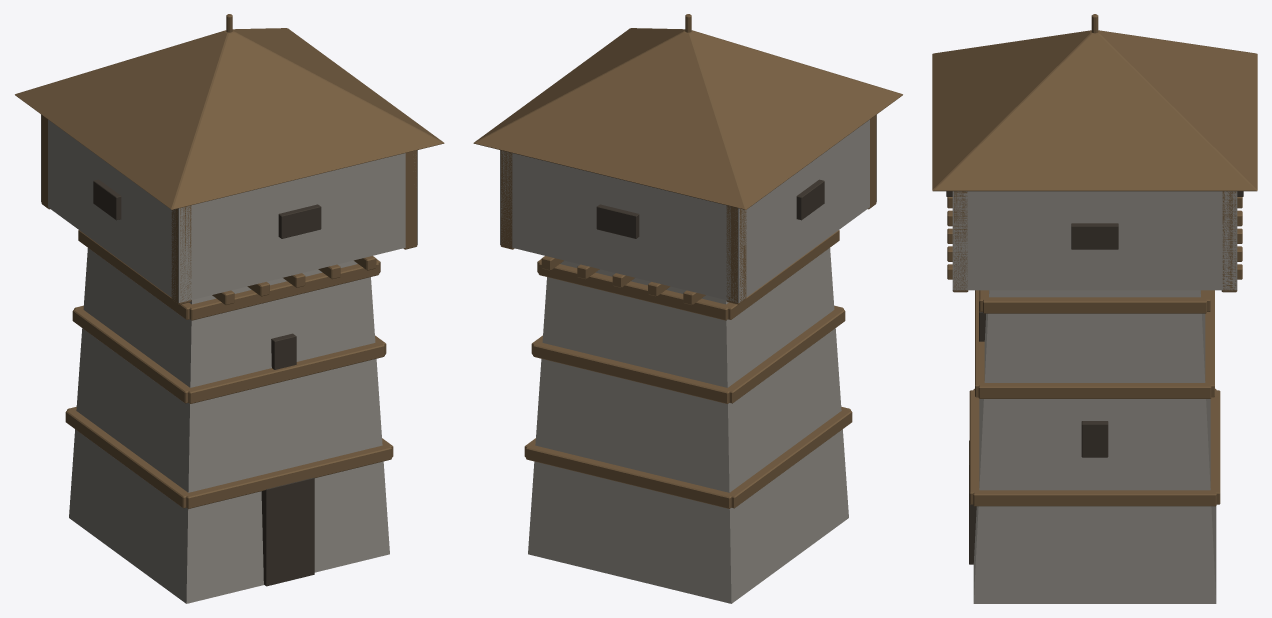
The model's file is watchtower.glb.
3 renders of one model, left to right at view 1: azimuth 30°, elevation 25°; view 2: azimuth 150°, elevation 25°; view 3: azimuth 270°, elevation 25°, orthographic. The views are drawn at different scales.
Visible parts, largest first — view 1: stone, wood, dark; view 2: stone, wood, dark; view 3: stone, wood, dark.
Boxes of the visible parts, x1,y1,x2,y2 form: stone: (41, 114, 417, 603); wood: (15, 14, 444, 508); dark: (93, 179, 321, 586); stone: (500, 114, 876, 603); wood: (473, 14, 902, 508); dark: (596, 179, 824, 238); stone: (952, 191, 1237, 603); wood: (932, 14, 1257, 506); dark: (946, 191, 1243, 564).
Bounding box in the file's own units: 6.17 × 11.25 × 6.17.
